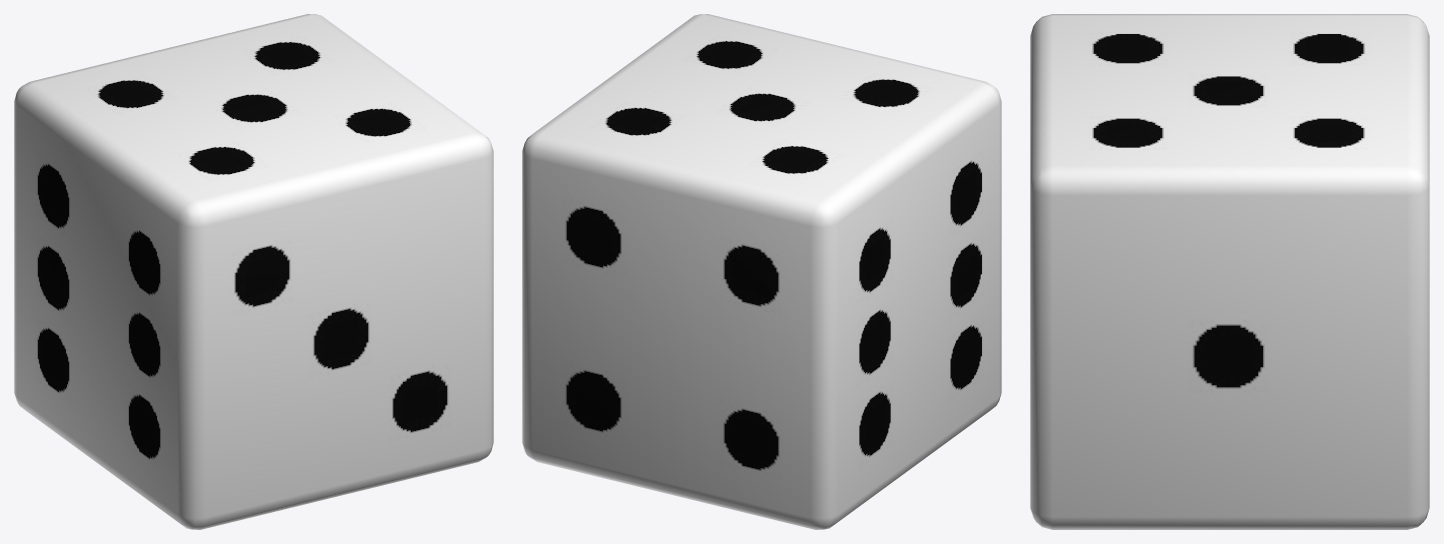
Rendered from dice2.glb.
3 views of the same model, side by side, from view 1: azimuth 30°, elevation 25°; view 2: azimuth 150°, elevation 25°; view 3: azimuth 270°, elevation 25° (orthographic). The views are drawn at different scales.
Parts seen in each view (by area): view 1: 1 one; view 2: 1 one; view 3: 1 one.
Boxes of the visible parts, x1,y1,x2,y2 form: 1 one: (14,14,493,529); 1 one: (522,14,1001,529); 1 one: (1030,14,1429,529).
Bounding box in the file's own units: 1 × 1 × 1.
Materials: 1 (1 with a texture image).
